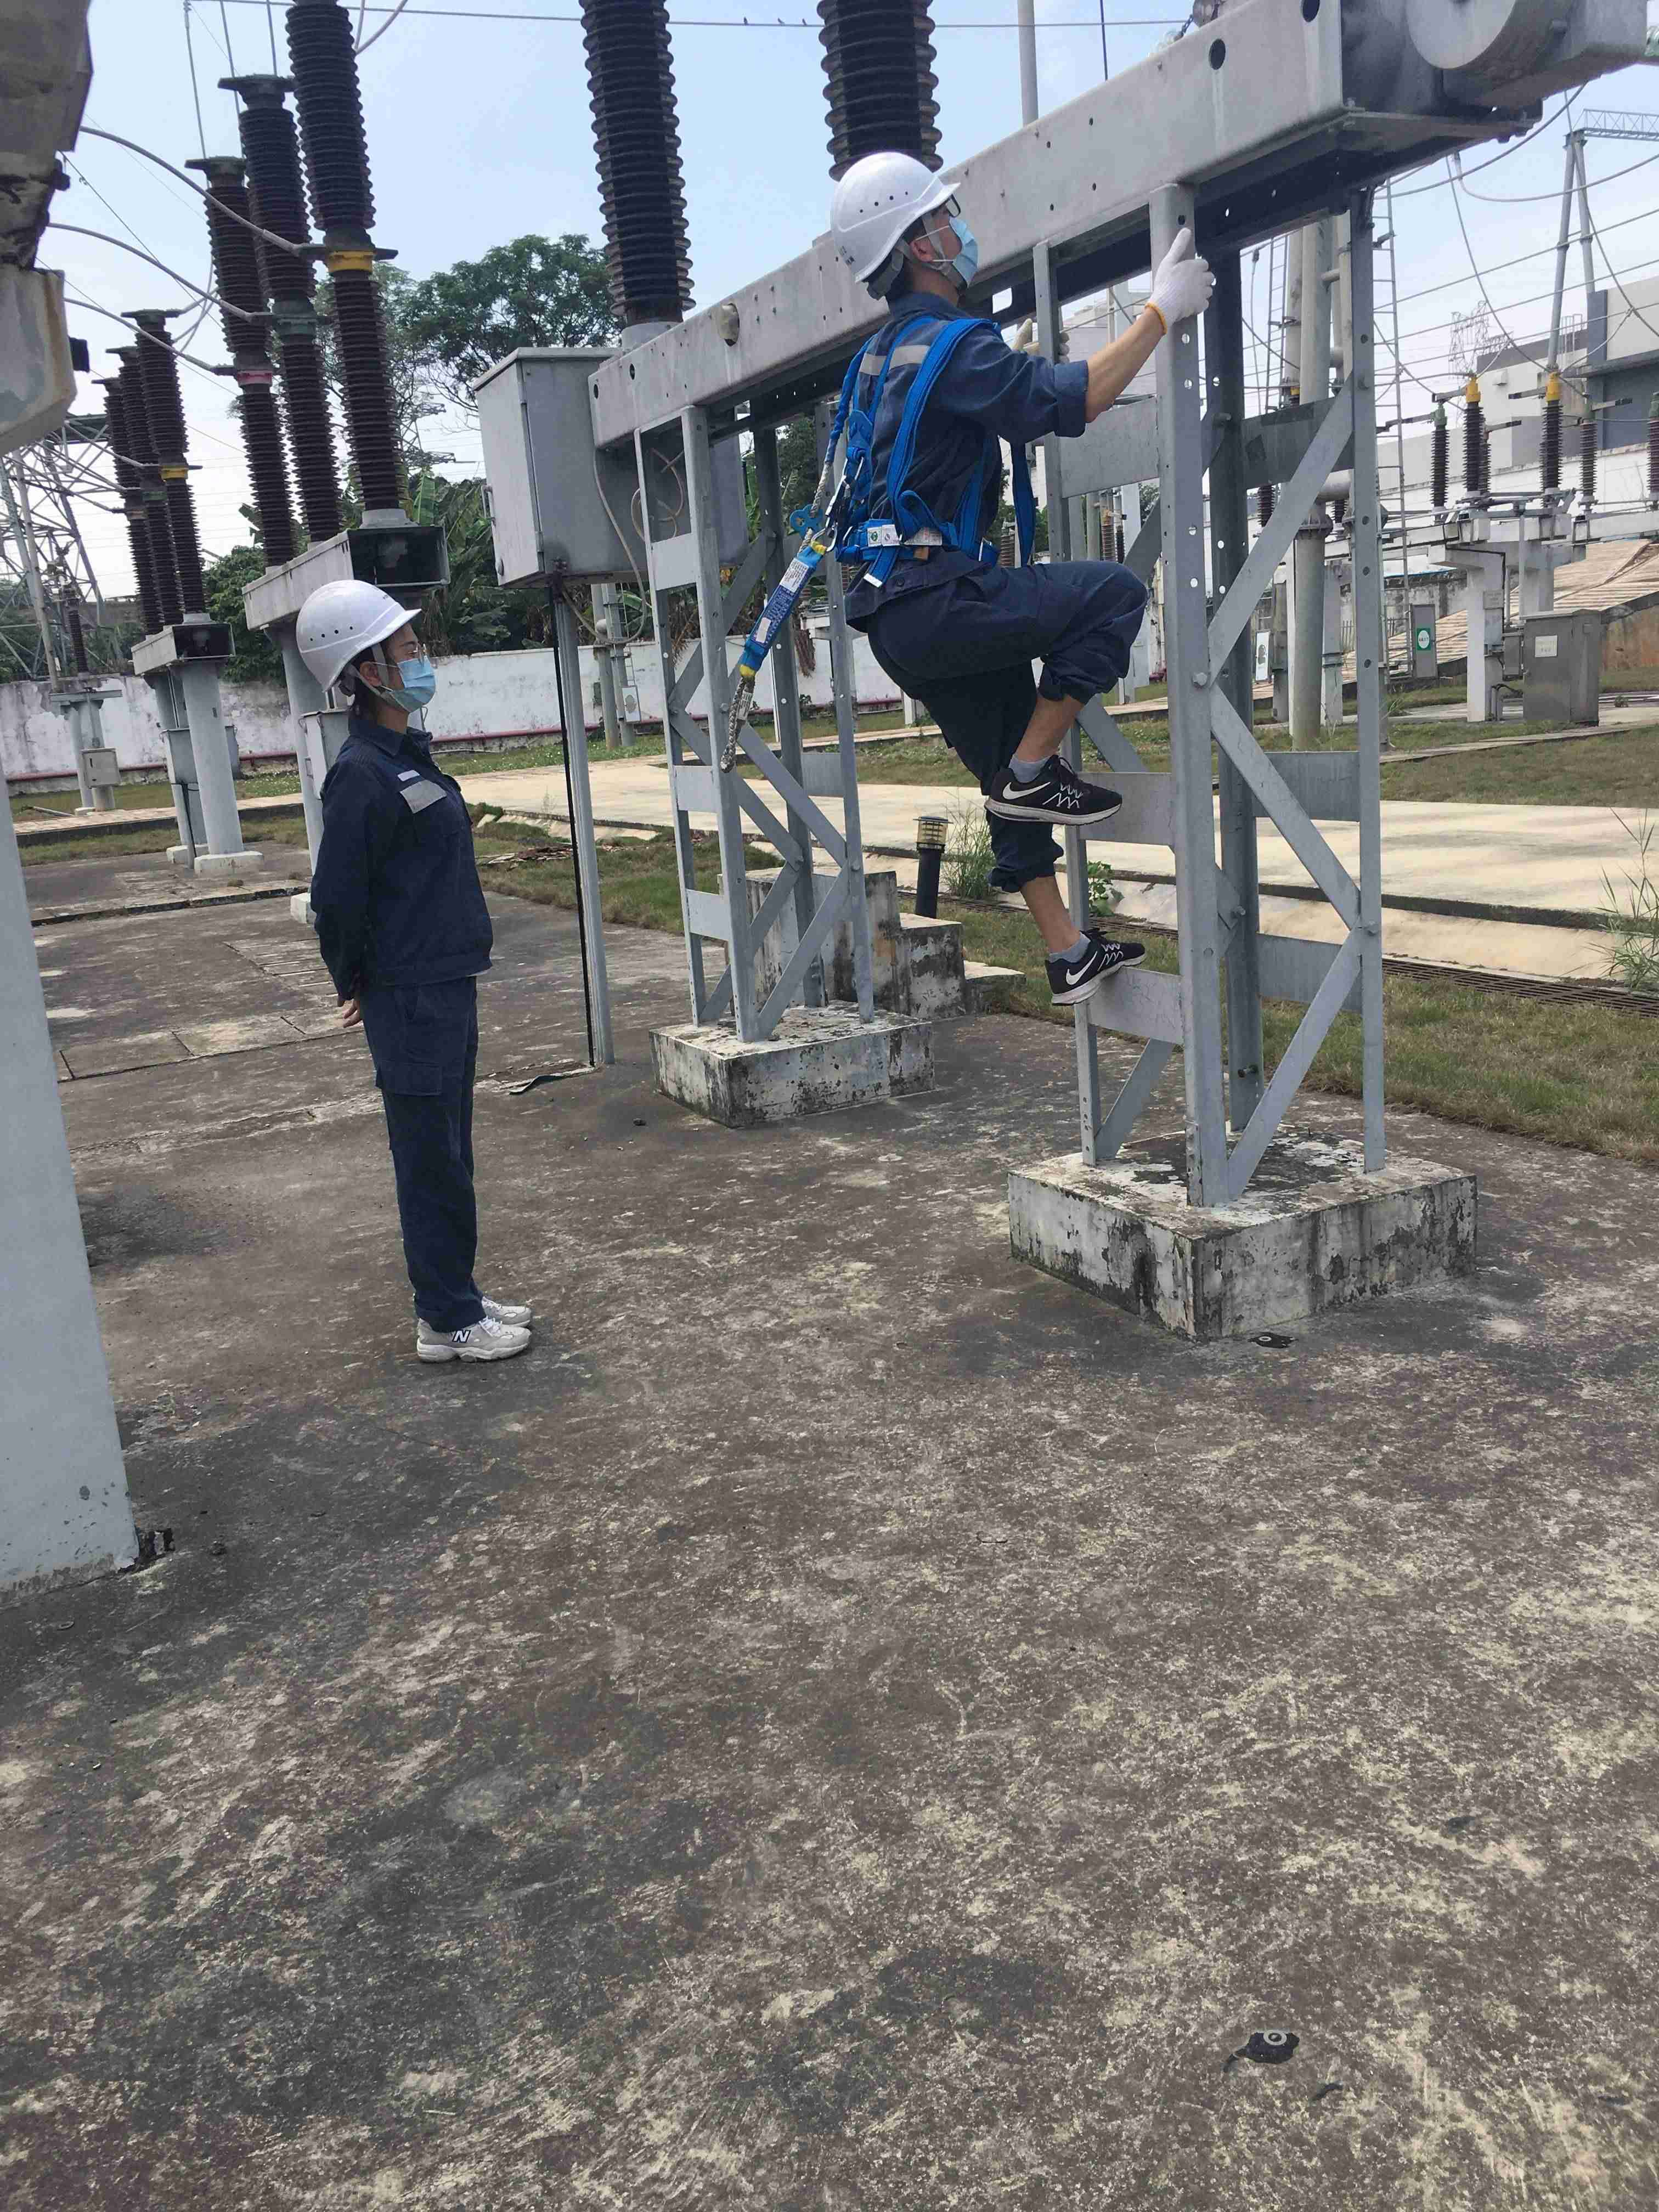downsuit: (873, 554, 1152, 974), (359, 1001, 498, 1322)
upsuit: (828, 317, 1087, 556), (307, 726, 502, 988)
wrongbottom: (1000, 639, 1117, 789), (995, 834, 1086, 961)
wrongtop: (1060, 300, 1175, 444)
